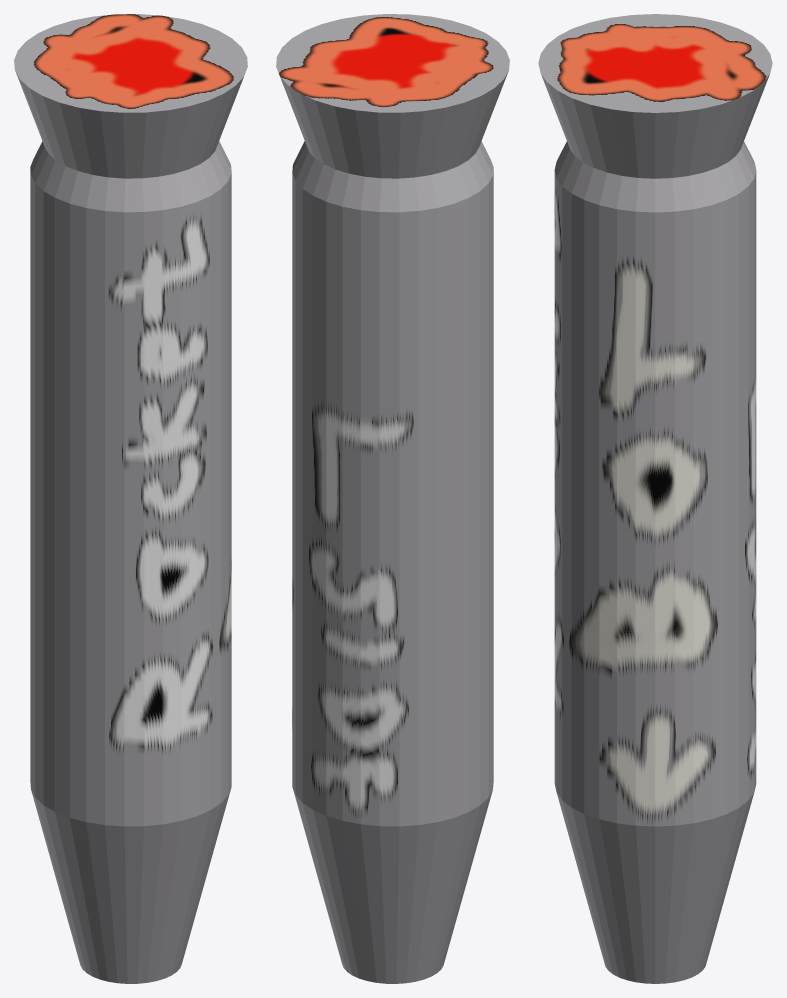
File: zfo-xup_rocket.obj
3 views of the same model, side by side, from view 1: azimuth 30°, elevation 25°; view 2: azimuth 150°, elevation 25°; view 3: azimuth 270°, elevation 25° (orthographic).
Visible parts, largest first — view 1: Cylinder; view 2: Cylinder; view 3: Cylinder.
Boxes of the visible parts, x1,y1,x2,y2 form: Cylinder: (14, 14, 247, 983); Cylinder: (276, 14, 509, 983); Cylinder: (538, 14, 772, 983).
Bounding box in the file's own units: 1.16 × 4.92 × 1.16.
1 material, 1 textured.
